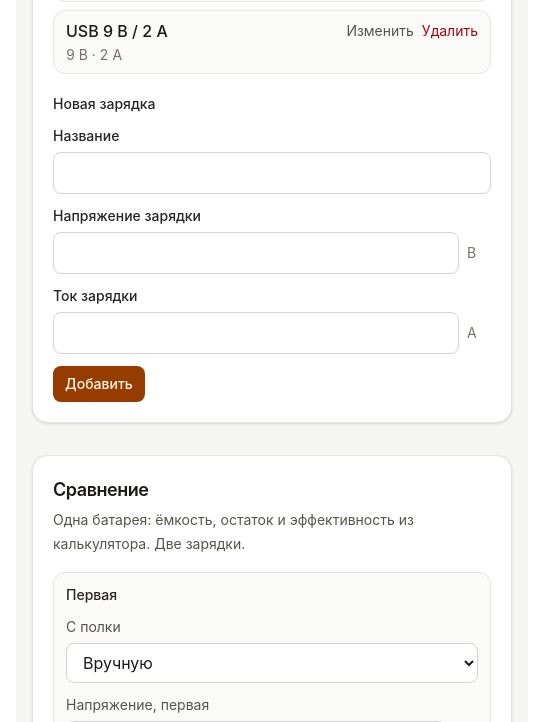
it: charger shelf › does not add an invalid charger and cancel restores the empty form
(page scrolled)
Step 1. Click the button "Добавить" → (99, 384), box 53,366 -> 145,402
(page scrolled)
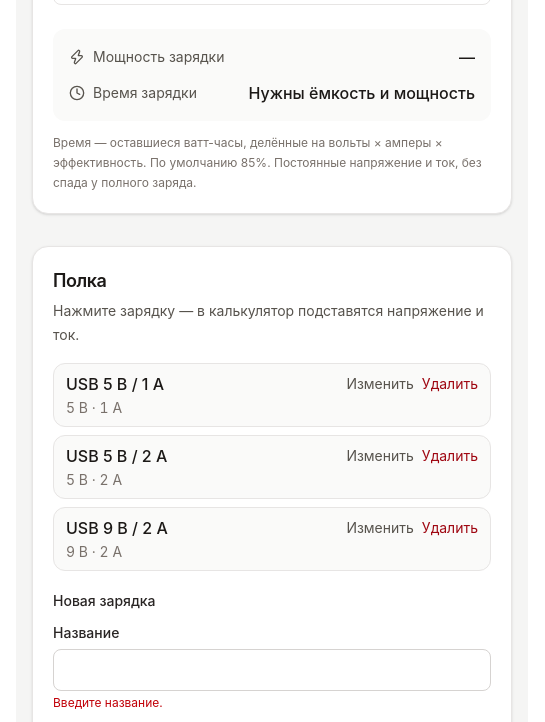
Expected: the text "Введите название." is shown, 53,695 -> 163,710
Step 2. Click the button with aria-label "Изменить USB 5 В / 1 А" → (380, 384), box 346,374 -> 414,394
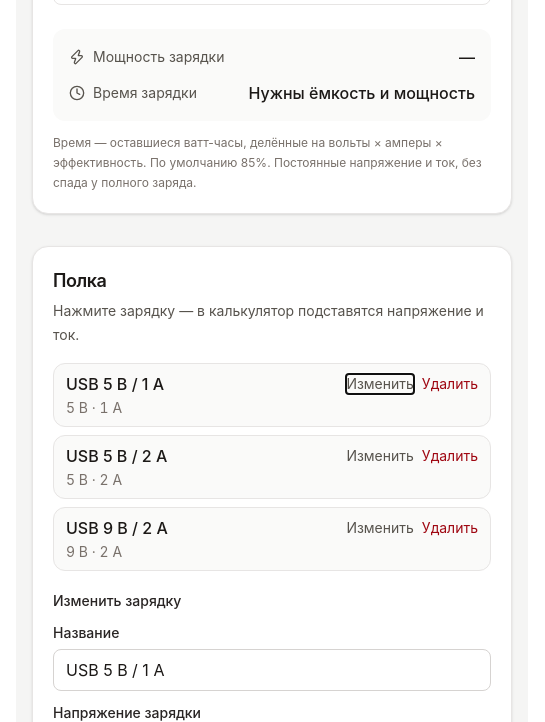
Step 3. Type " ещё" into the field labelled "Название" → (272, 670), box 53,649 -> 491,691
(page scrolled)
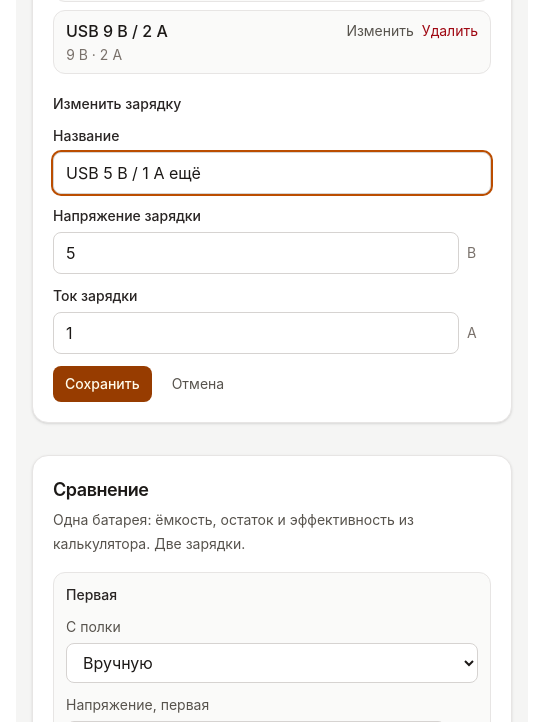
Step 4. Click the button "Отмена" → (198, 384), box 160,366 -> 236,402
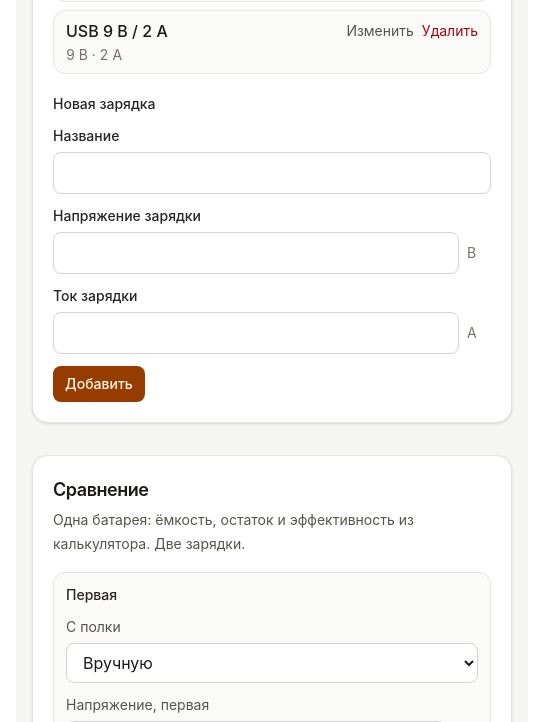
Expected: the field labelled "Название" is empty, 53,152 -> 491,194
Expected: the heading "Новая зарядка" is shown, 53,95 -> 155,112
